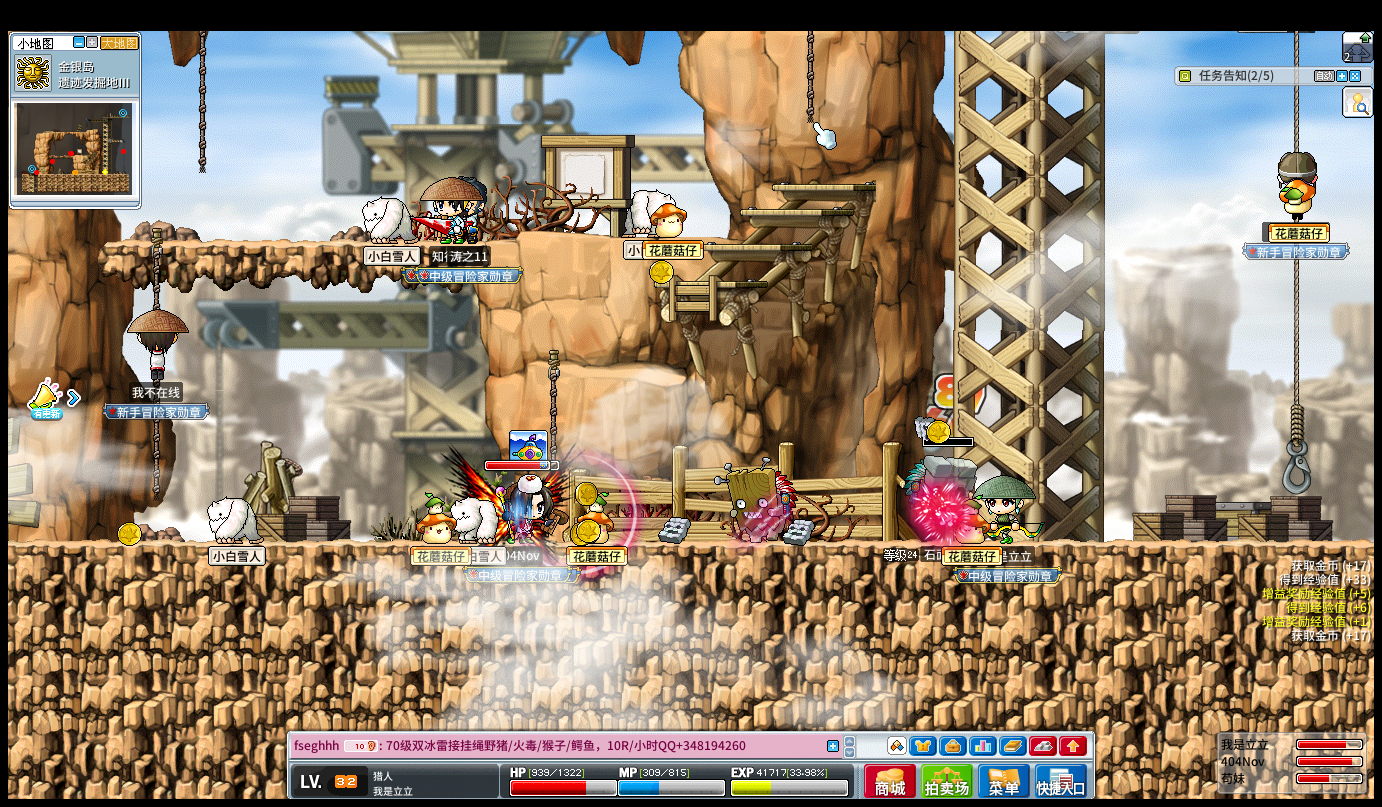floor: (102, 239, 473, 249), (577, 364, 688, 385), (596, 232, 738, 241), (649, 280, 765, 291), (738, 205, 851, 215), (649, 279, 765, 287), (700, 243, 810, 251), (736, 207, 848, 214), (771, 184, 875, 191)
monster: (722, 462, 794, 542), (903, 455, 976, 519)
rope: (1291, 257, 1302, 407), (546, 350, 561, 439), (198, 29, 207, 173), (152, 419, 164, 507), (150, 227, 161, 308), (1292, 29, 1299, 148), (805, 29, 813, 124), (1289, 399, 1304, 444), (152, 419, 160, 503)
